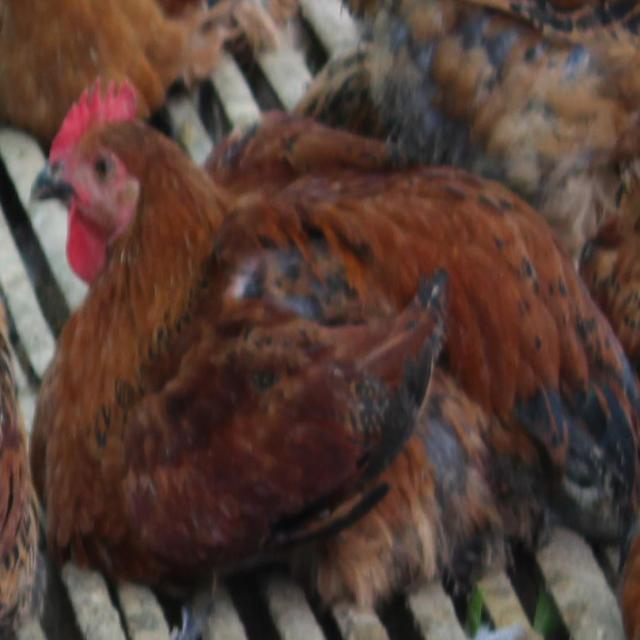hen: (3, 81, 640, 627)
